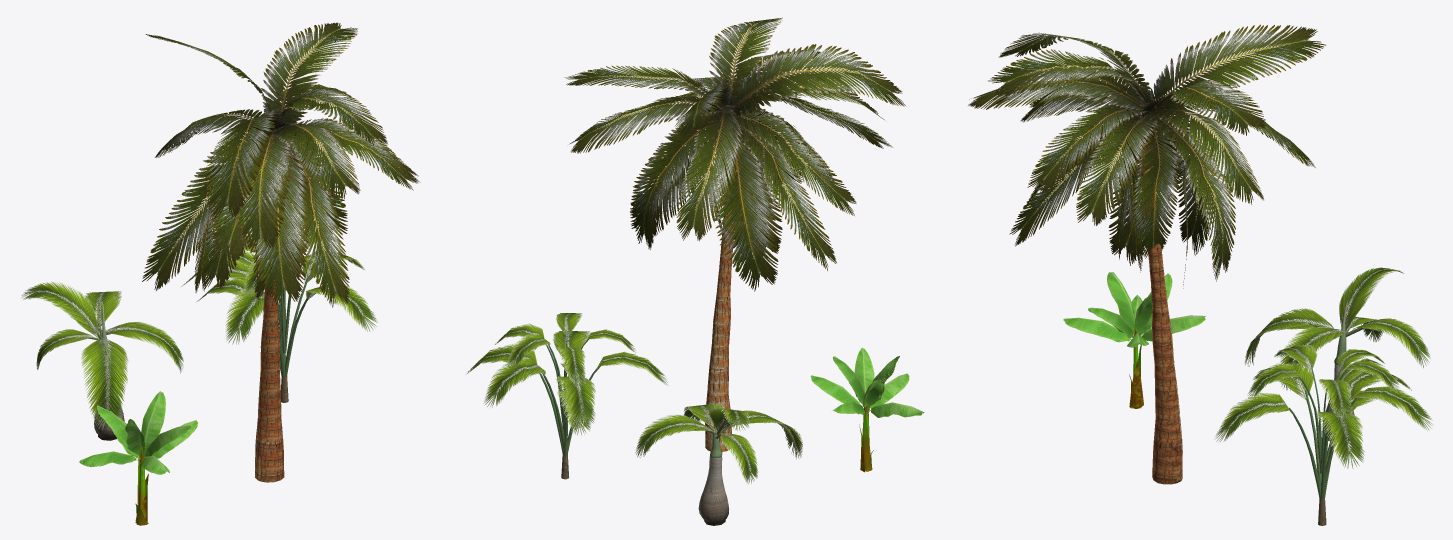
File: Trees.fbx
The picture shows the model from 3 angles, left to right: view 1: azimuth 30°, elevation 25°; view 2: azimuth 150°, elevation 25°; view 3: azimuth 270°, elevation 25°; orthographic projection. The views are drawn at different scales.
Parts seen in each view (by area): view 1: coconut_tree, Palm_Tree023, Palm_Tree01, Banana_Tree; view 2: coconut_tree, Palm_Tree01, Palm_Tree023, Banana_Tree; view 3: coconut_tree, Palm_Tree01, Palm_Tree023, Banana_Tree.
Part boxes in pixels (x1,y1,x2,y2): coconut_tree: (142, 22, 420, 482); Palm_Tree023: (21, 281, 183, 440); Palm_Tree01: (181, 232, 377, 402); Banana_Tree: (79, 391, 198, 525); coconut_tree: (564, 17, 905, 452); Palm_Tree01: (467, 313, 668, 479); Palm_Tree023: (635, 401, 802, 525); Banana_Tree: (810, 347, 924, 472); coconut_tree: (968, 24, 1326, 484); Palm_Tree01: (1214, 344, 1433, 525); Palm_Tree023: (1244, 267, 1430, 441); Banana_Tree: (1063, 272, 1205, 408).
Size of the model in its own units: 734 by 742 by 752.
1 material, 1 textured.
